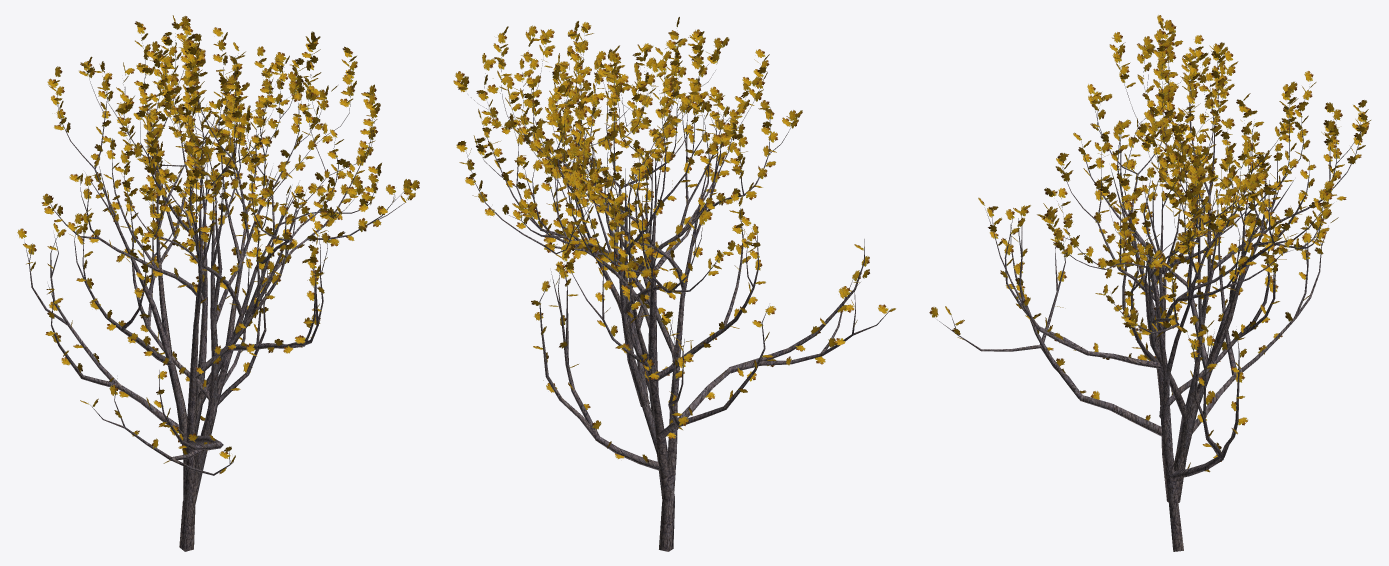
File: tree1.fbx
3 views of the same model, side by side, from view 1: azimuth 30°, elevation 25°; view 2: azimuth 150°, elevation 25°; view 3: azimuth 270°, elevation 25° (orthographic). The views are drawn at different scales.
Parts seen in each view (by area): view 1: leaves, tree; view 2: leaves, tree; view 3: leaves, tree.
Part boxes in pixels (x1,y1,x2,y2): leaves: [17, 15, 419, 473]; tree: [24, 31, 408, 551]; leaves: [453, 17, 895, 462]; tree: [465, 33, 891, 551]; leaves: [929, 15, 1370, 472]; tree: [939, 51, 1360, 551].
Size of the model in its own units: 1773 by 2290 by 1786.
Materials: 2 (2 with a texture image).
